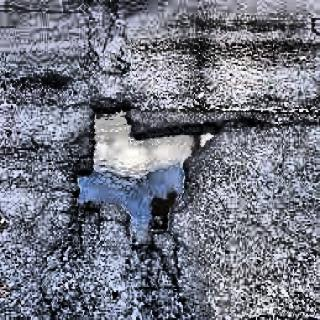alligator-crack: (32, 243, 193, 314), (60, 4, 132, 71)
pothole: (76, 95, 216, 237)
